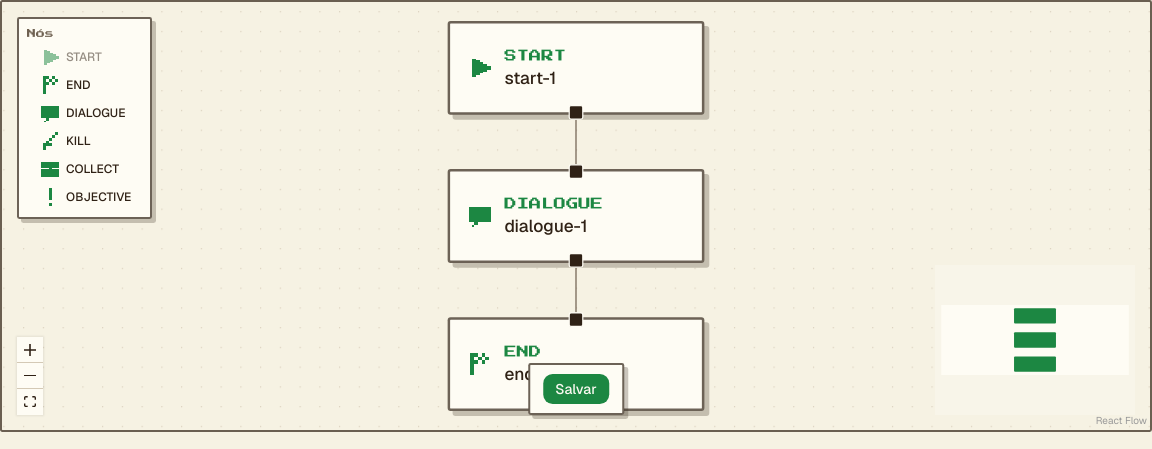
Test: MissionCanvas editable › shows the API 422 banner and keeps the dirty state
Click the button with test id "palette-OBJECTIVE": (85, 196) [27, 184, 142, 208]
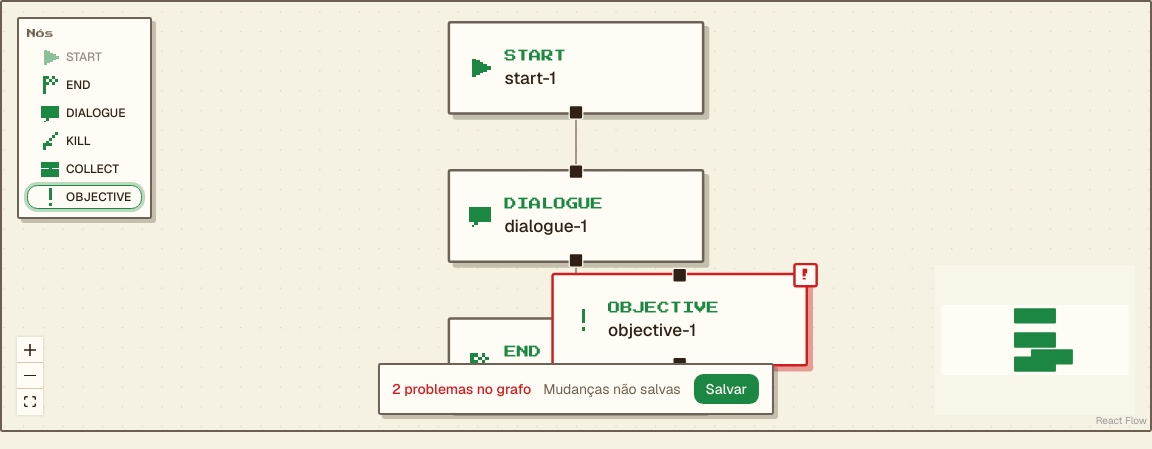
Click the button "Salvar": (726, 389) [692, 373, 760, 405]
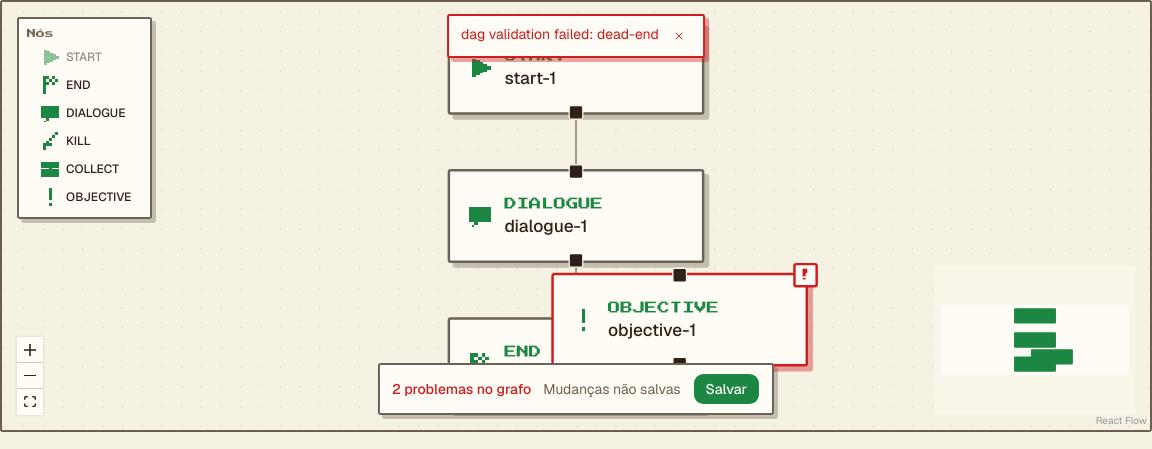
Expected: the text "Mudanças não salvas" is shown, [543, 379, 680, 399]
Expected: the message with test id "graph-api-error" reads "dag validation failed: dead-end", [461, 25, 659, 43]
Click the button named "Fechar erro": (679, 36) [667, 24, 691, 48]
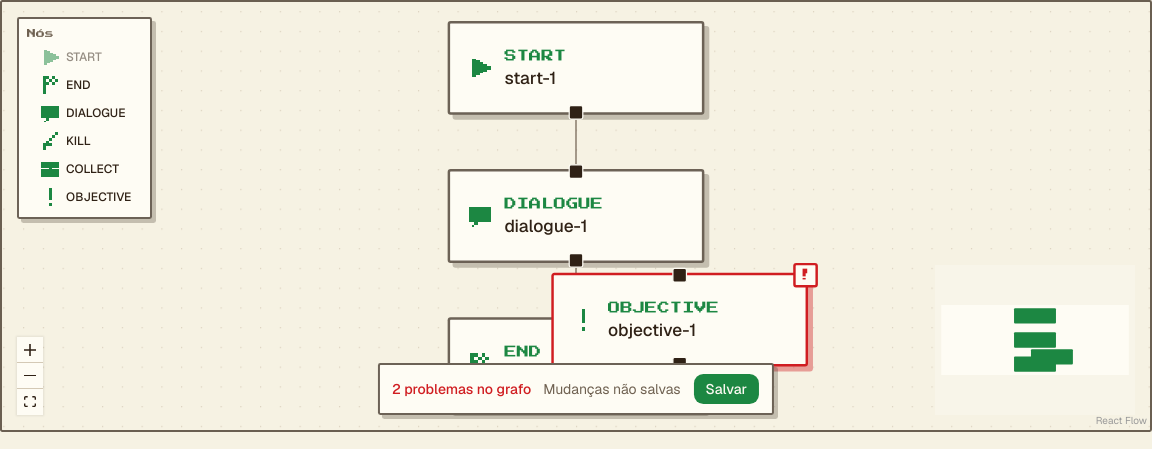
Expected: the message with test id "graph-api-error" is gone
